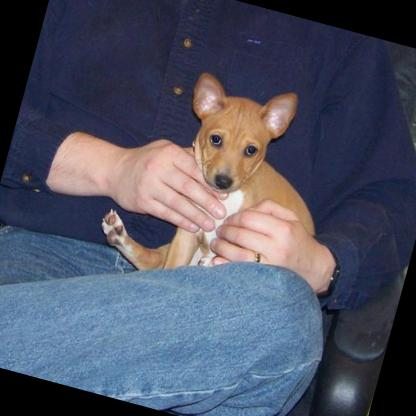basenji: (91, 53, 347, 310)
